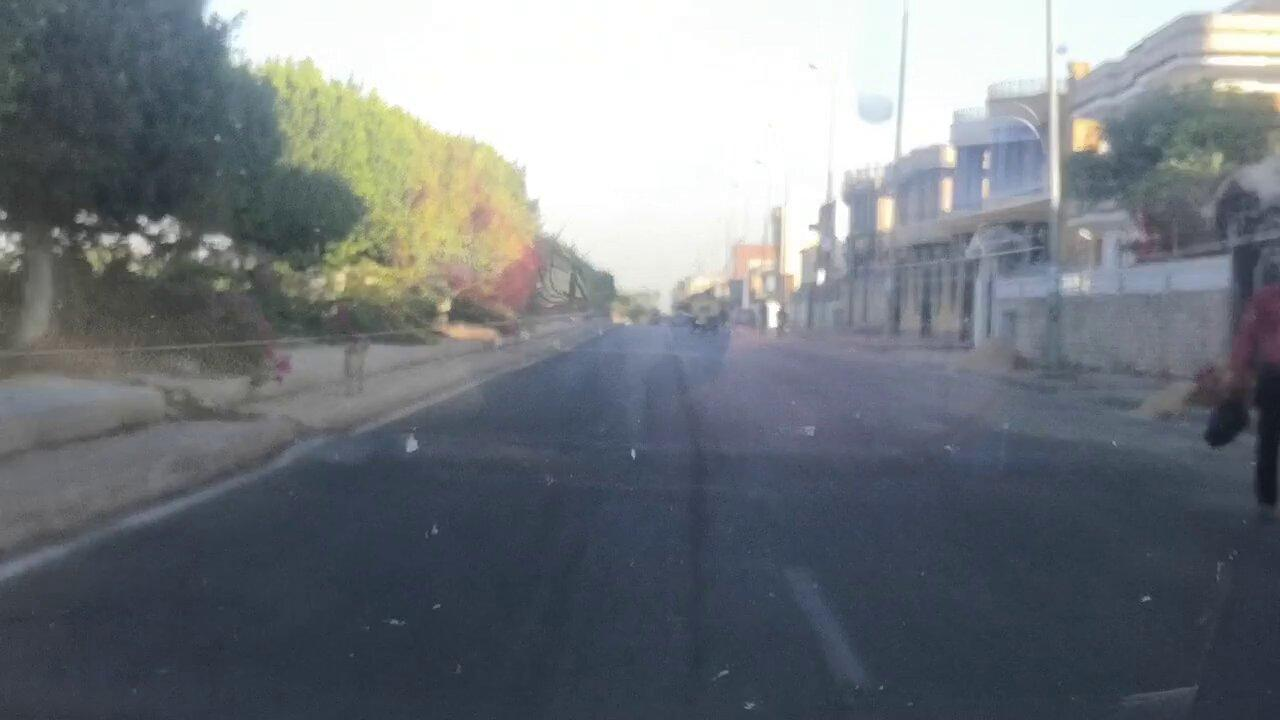Bump: (383, 418, 1202, 492)
